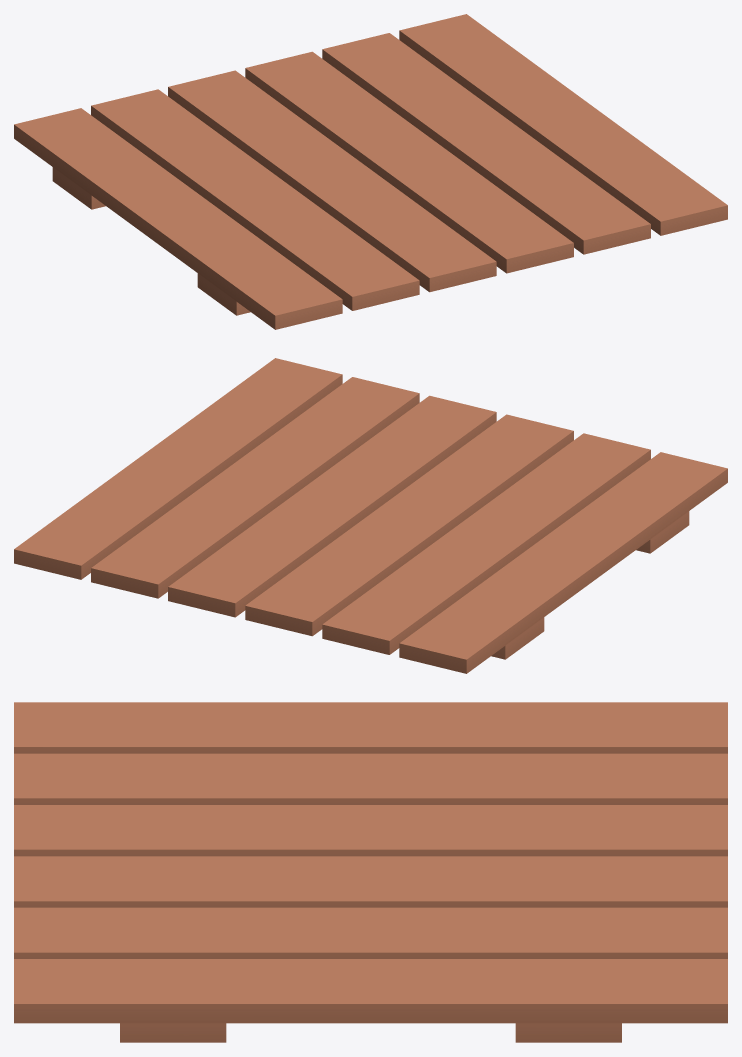
File: planks.fbx
The picture shows the model from 3 angles, top to bottom: view 1: azimuth 30°, elevation 25°; view 2: azimuth 150°, elevation 25°; view 3: azimuth 270°, elevation 25°; orthographic projection. The views are drawn at different scales.
Parts seen in each view (by area): view 1: planks; view 2: planks; view 3: planks.
Boxes of the visible parts, x1,y1,x2,y2 form: planks: (14,14,727,329); planks: (14,358,727,673); planks: (14,702,727,1042).
Bounding box in the file's own units: 100 × 6 × 100.
Materials: 1 (1 with a texture image).
